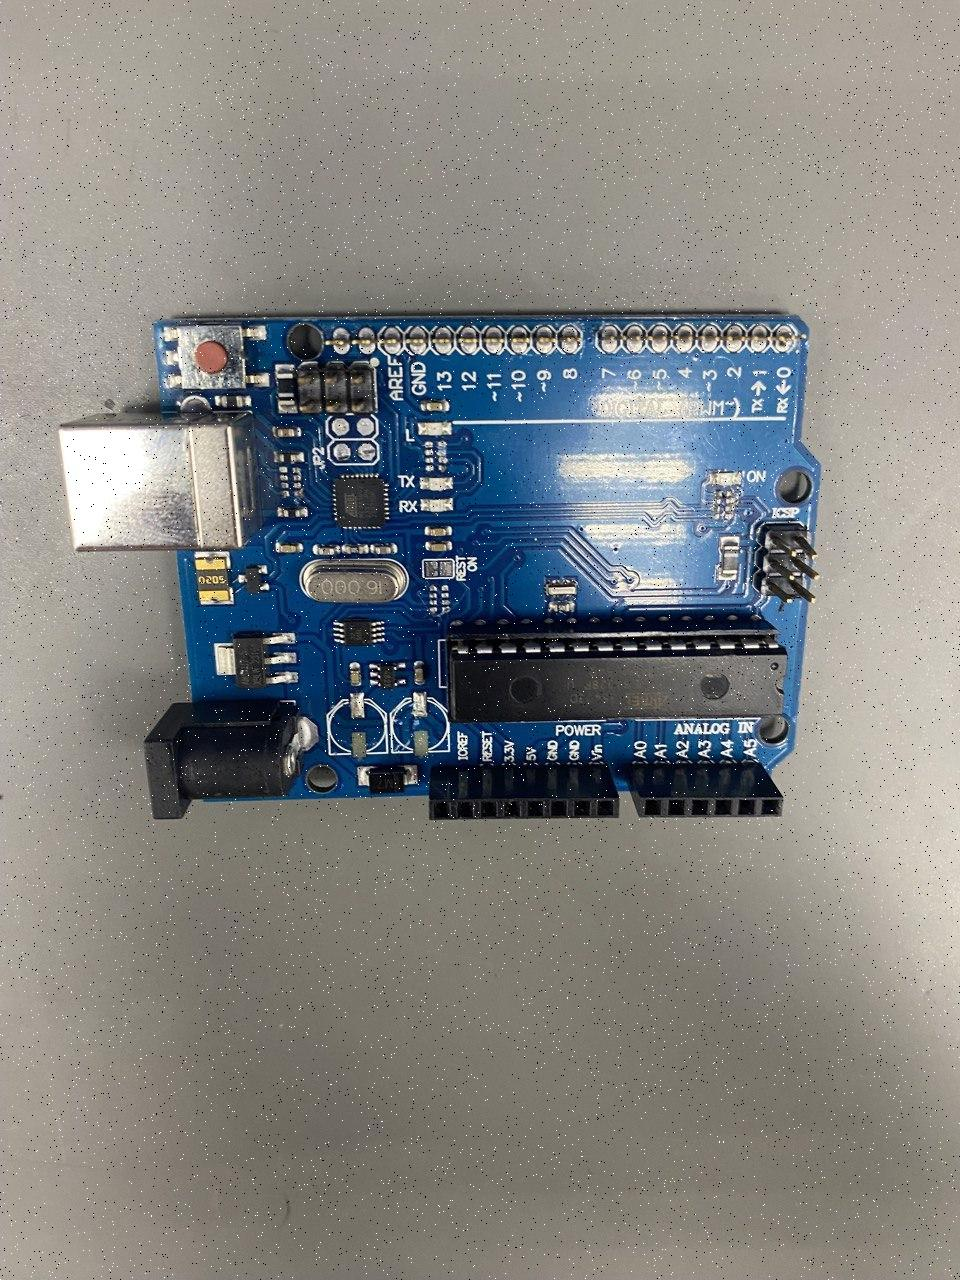ATmega328 chip: (449, 620, 788, 722)
Arduino board: (58, 315, 820, 821)
USB: (58, 410, 262, 551)
pins: (429, 762, 621, 821), (626, 762, 785, 819)
